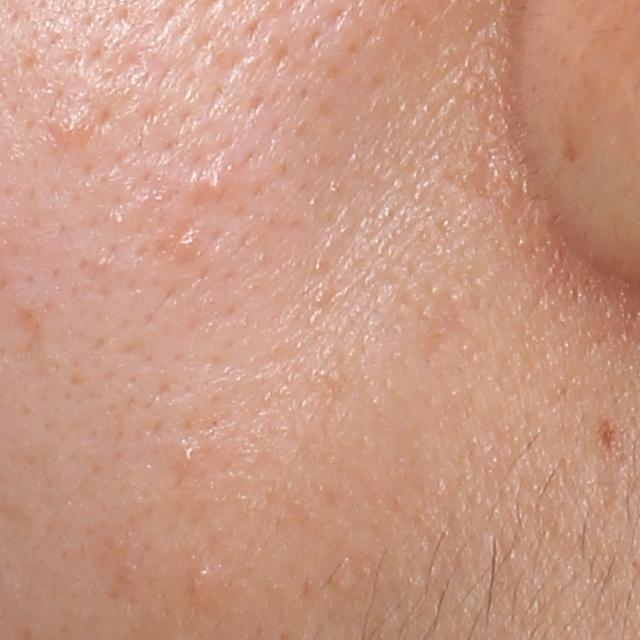comedo: (52, 115, 85, 147), (201, 170, 226, 201), (173, 230, 199, 257), (177, 440, 196, 470)
